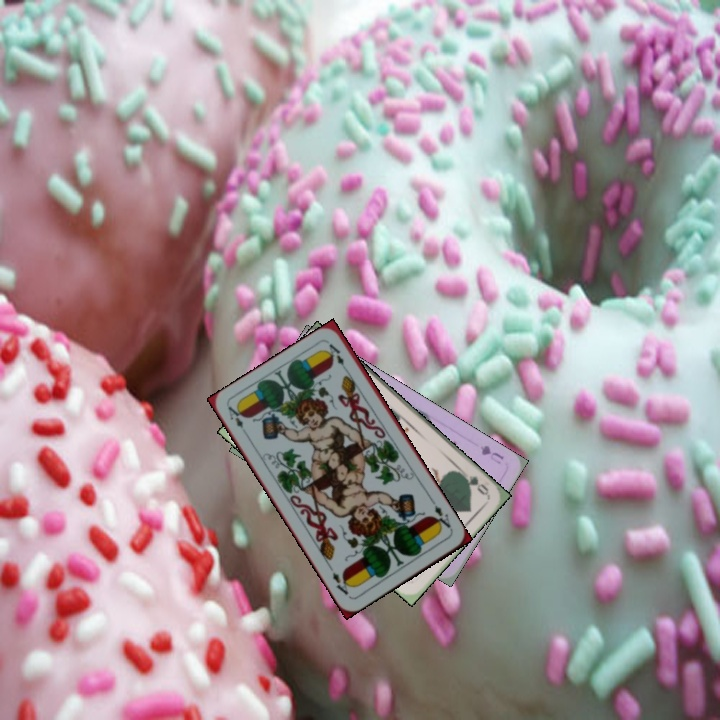EA: (224, 402, 251, 439), (428, 497, 455, 533)
GO: (455, 468, 491, 498)
GU: (476, 441, 507, 467)
